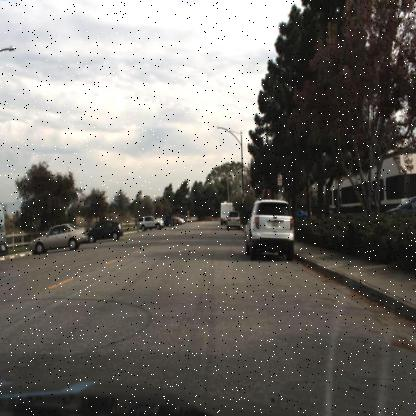car: (243, 197, 296, 260), (29, 219, 88, 255), (87, 218, 123, 244), (88, 218, 122, 240), (135, 213, 166, 235), (224, 210, 242, 234), (224, 207, 242, 230)
